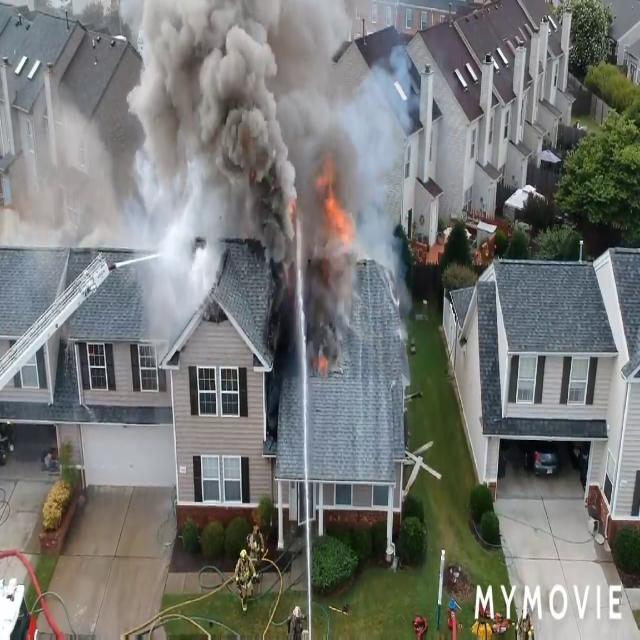Smoke: (122, 12, 331, 347), (312, 45, 410, 268)
